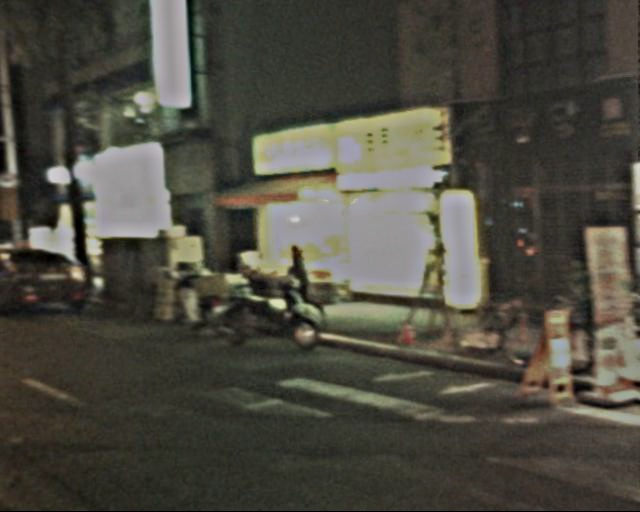person: (272, 239, 314, 322)
